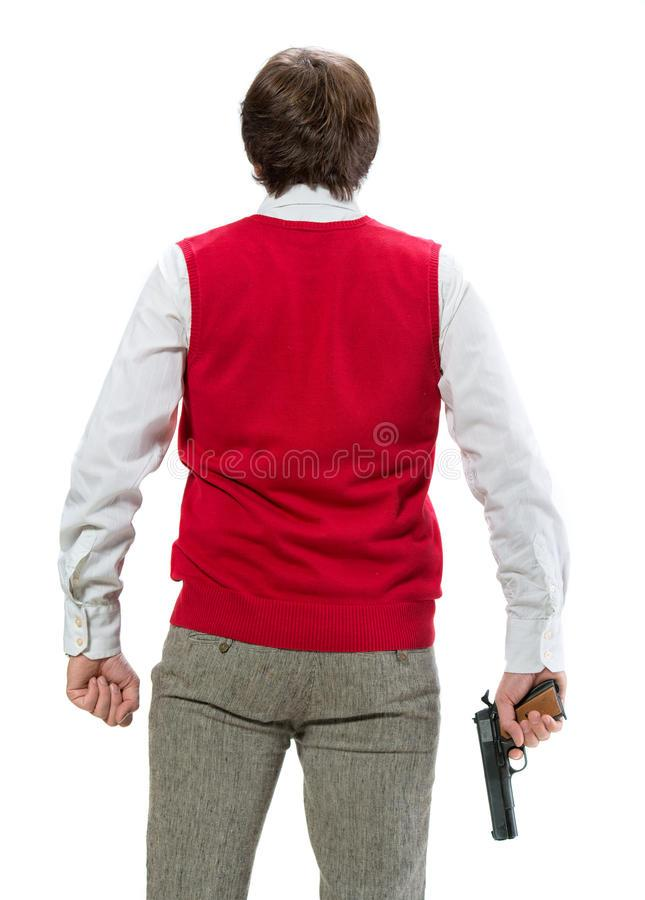weapon: (472, 672, 568, 842)
